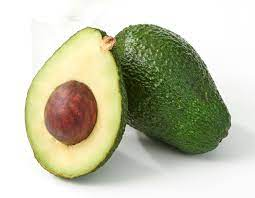avocado: (25, 27, 128, 179)
